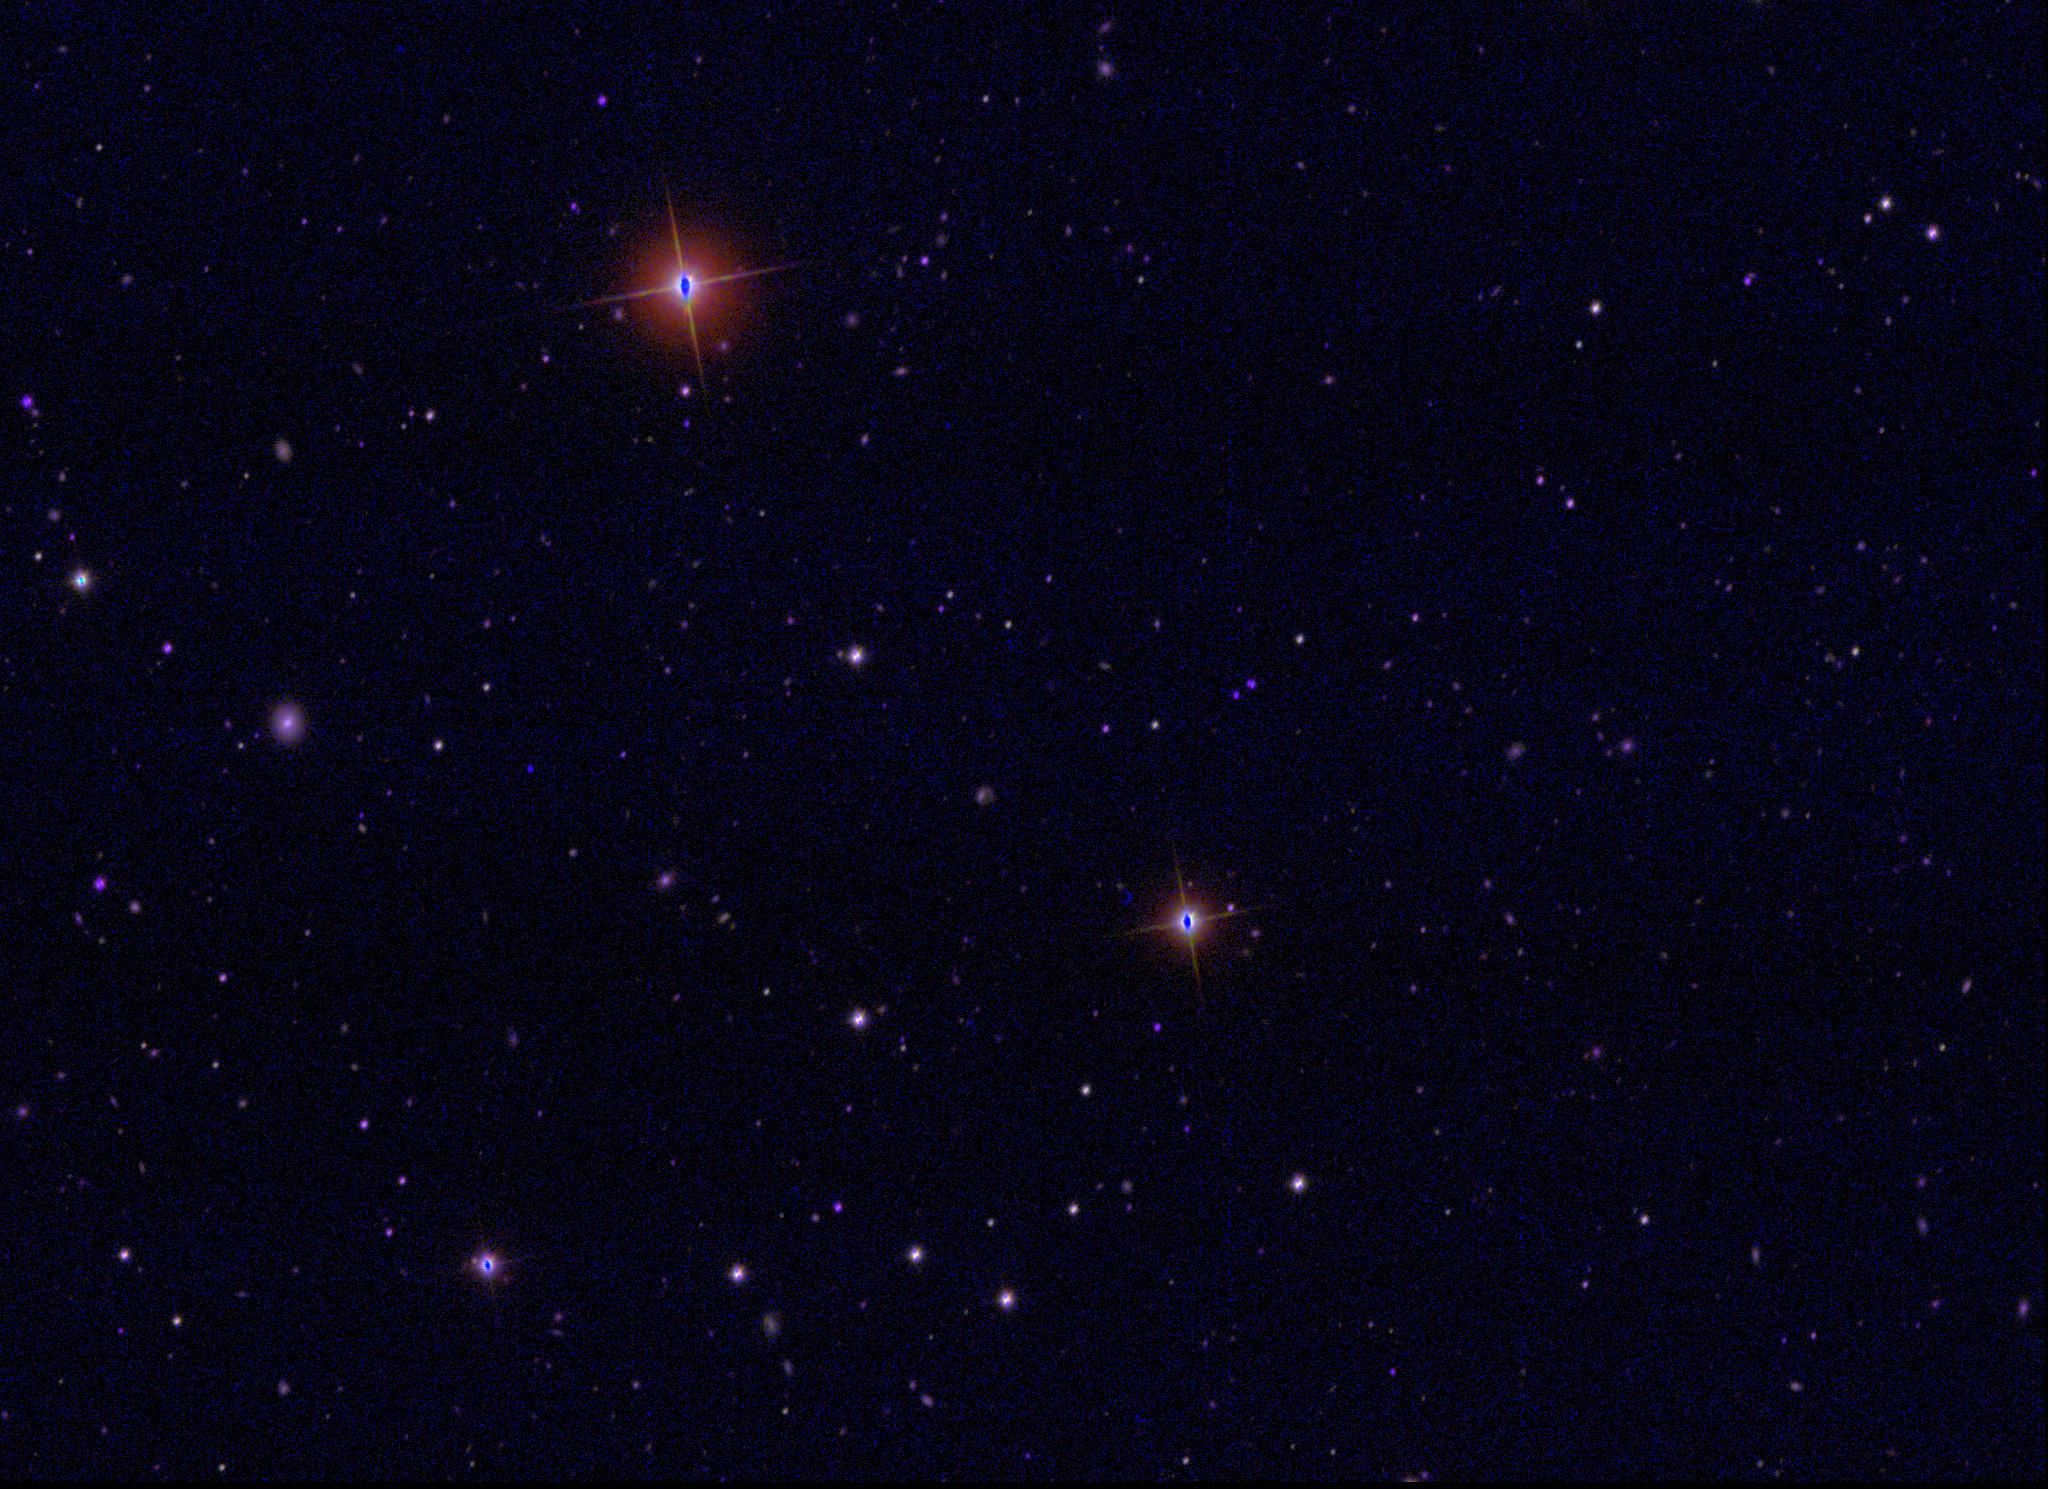L: (522, 759, 534, 773)
